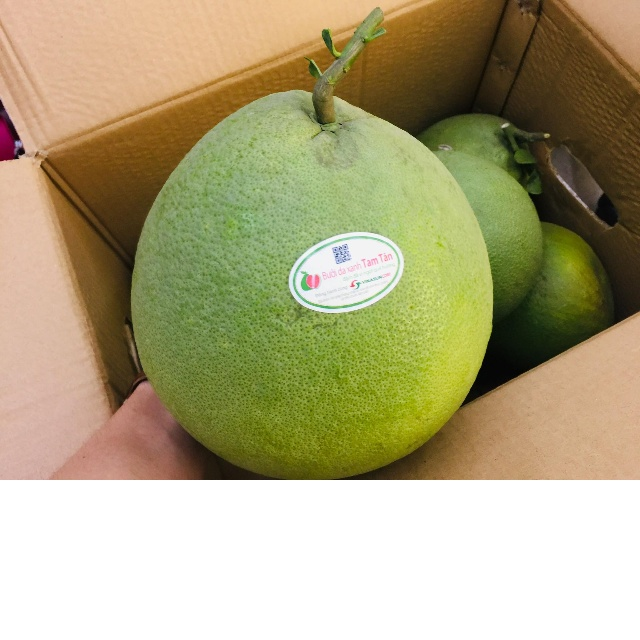buoi: (130, 90, 496, 479)
